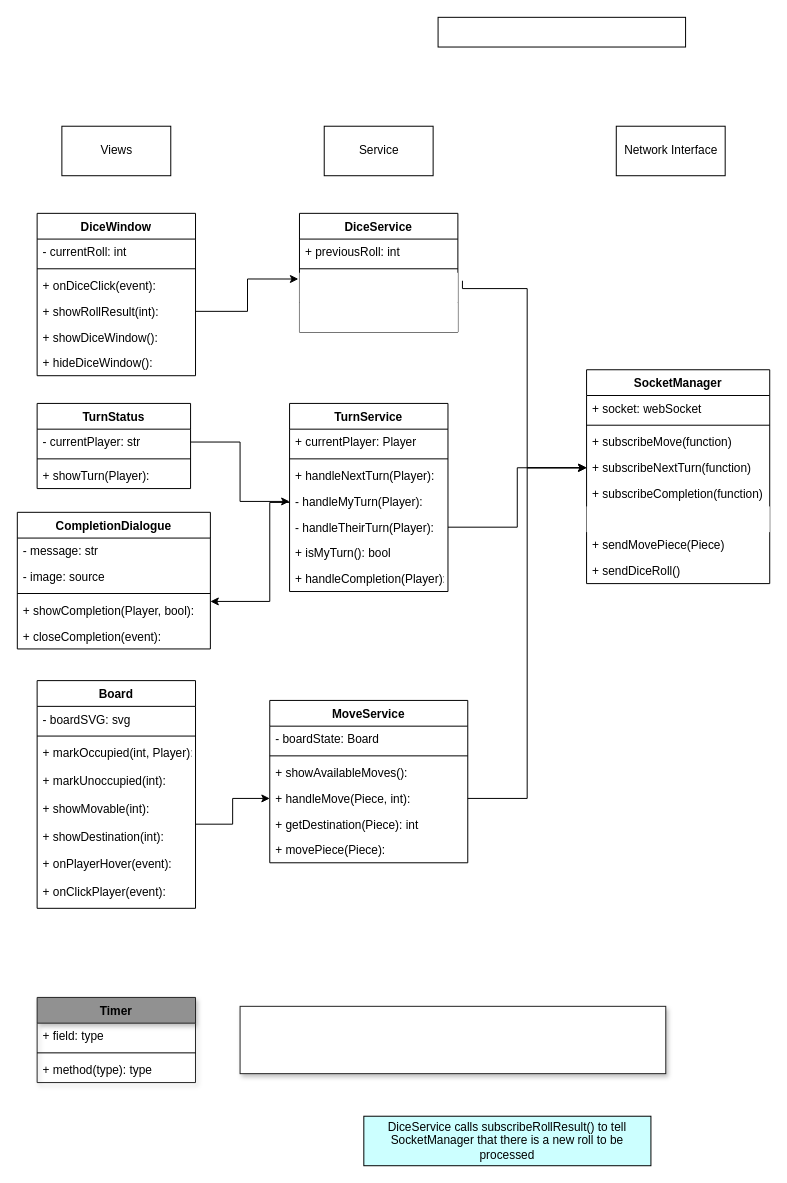
Image size: 787x1183. Some labels were removed from this diagram. Here are the shapes that lost their labels. From the top down, the centre of each, then its label:
At [561,31]: "SocketManager calls handleResult after the roll has bee".
At [378,287]: "+ rollDice():".
At [378,317]: "+ handleResult(int):".
At [677,519]: "+ subscribeRollResult(function)".
At [453,1041]: "Note: Do not currently have end turn Do not have pages for Lobby and HomePage".
